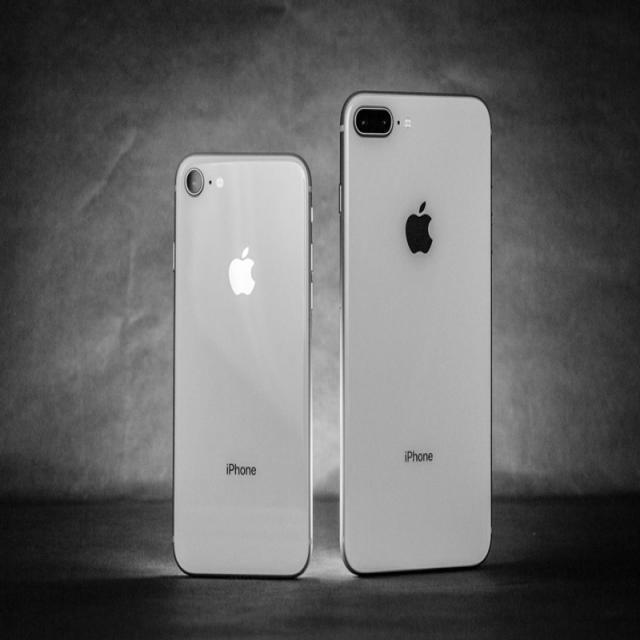fake: (338, 86, 498, 576), (173, 150, 314, 588)
